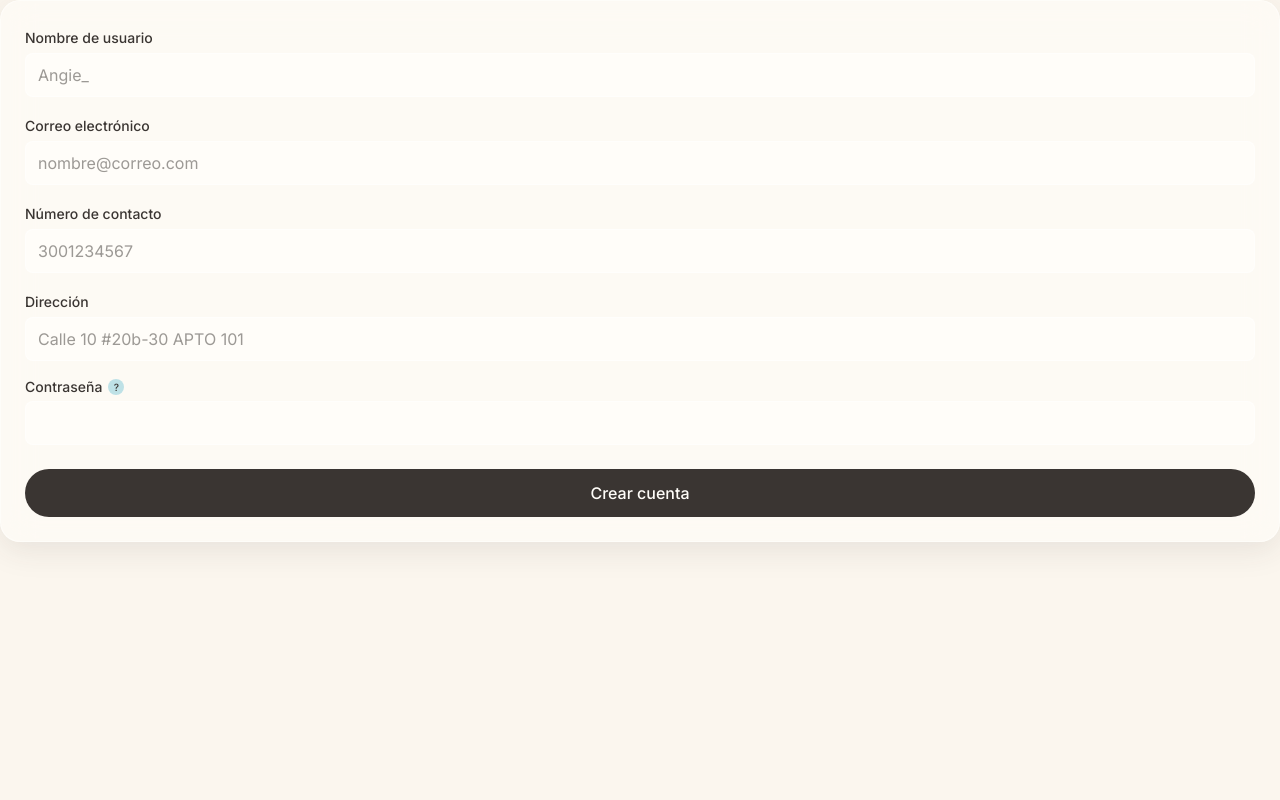
Scenario: RegisterForm › muestra errores con formulario vacío
Click the button "Crear cuenta".
click(640, 493)  # box [25,469,1255,517]
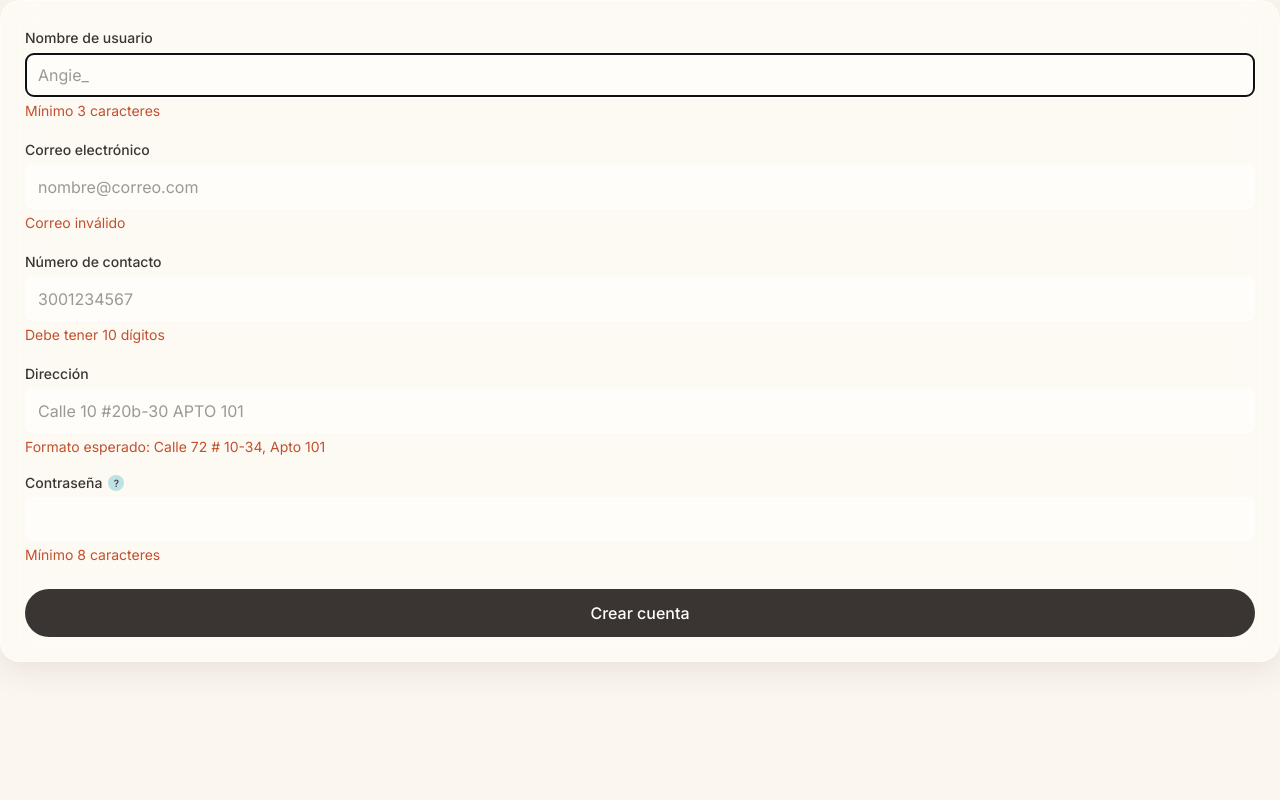
Result: the text "Mínimo 3 caracteres" is shown at [25,102,160,119]
Result: the text "Correo inválido" is shown at [25,214,126,231]
Result: the text "Debe tener 10 dígitos" is shown at [25,326,165,343]
